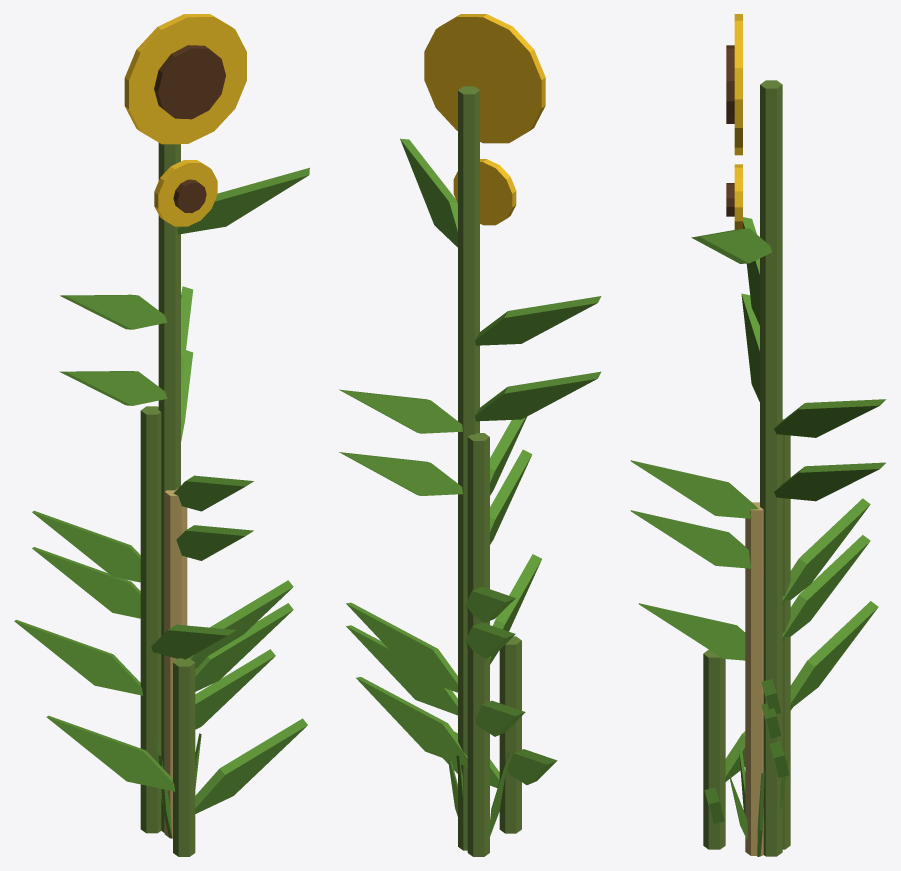
The model's file is Crop_Nut_Sunflower.fbx.
3 views of the same model, side by side, from view 1: azimuth 30°, elevation 25°; view 2: azimuth 150°, elevation 25°; view 3: azimuth 270°, elevation 25° (orthographic).
Visible parts, largest first — view 1: Crop_Nut_Sunflower__S4, Crop_Nut_Sunflower__S3, Crop_Nut_Sunflower__S2, Crop_Nut_Sunflower__S1, Crop_Nut_Sunflower__S5; view 2: Crop_Nut_Sunflower__S4, Crop_Nut_Sunflower__S3, Crop_Nut_Sunflower__S2, Crop_Nut_Sunflower__S1, Crop_Nut_Sunflower__S5; view 3: Crop_Nut_Sunflower__S4, Crop_Nut_Sunflower__S3, Crop_Nut_Sunflower__S2, Crop_Nut_Sunflower__S5, Crop_Nut_Sunflower__S1.
Boxes of the visible parts, left/top/right/bottom form: Crop_Nut_Sunflower__S4: left=32, top=14, right=309, bottom=831; Crop_Nut_Sunflower__S3: left=32, top=160, right=293, bottom=832; Crop_Nut_Sunflower__S2: left=14, top=406, right=275, bottom=833; Crop_Nut_Sunflower__S1: left=46, top=658, right=307, bottom=856; Crop_Nut_Sunflower__S5: left=155, top=488, right=201, bottom=838; Crop_Nut_Sunflower__S4: left=339, top=14, right=601, bottom=849; Crop_Nut_Sunflower__S3: left=339, top=159, right=600, bottom=850; Crop_Nut_Sunflower__S2: left=356, top=433, right=541, bottom=856; Crop_Nut_Sunflower__S1: left=443, top=636, right=557, bottom=833; Crop_Nut_Sunflower__S5: left=448, top=752, right=508, bottom=836; Crop_Nut_Sunflower__S4: left=630, top=14, right=886, bottom=855; Crop_Nut_Sunflower__S3: left=630, top=164, right=885, bottom=856; Crop_Nut_Sunflower__S2: left=638, top=419, right=878, bottom=849; Crop_Nut_Sunflower__S5: left=728, top=502, right=788, bottom=856; Crop_Nut_Sunflower__S1: left=703, top=649, right=792, bottom=849.
Bounding box in the file's own units: 0.1991 × 0.65 × 0.1816.
